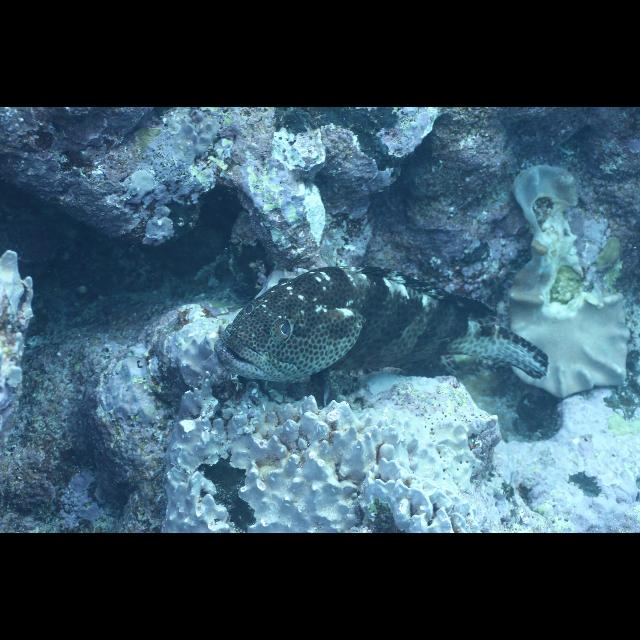Groupers: (217, 264, 569, 382)
